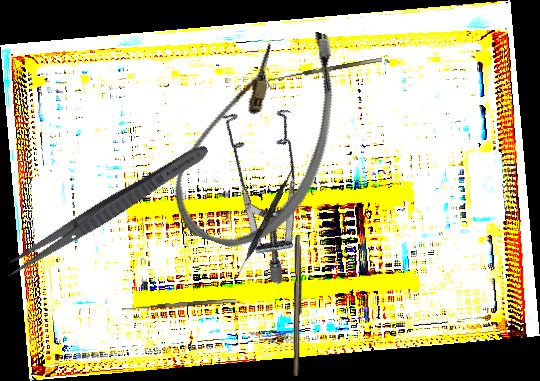Cannula: (159, 3, 362, 267)
Dressing Forceps: (0, 138, 213, 284)
Hook Surgical: (266, 57, 384, 88), (121, 298, 237, 317)
Scalpel Handle: (293, 235, 303, 376)
Spatula Surgical: (233, 164, 296, 283)
Speculum: (165, 84, 352, 287)
